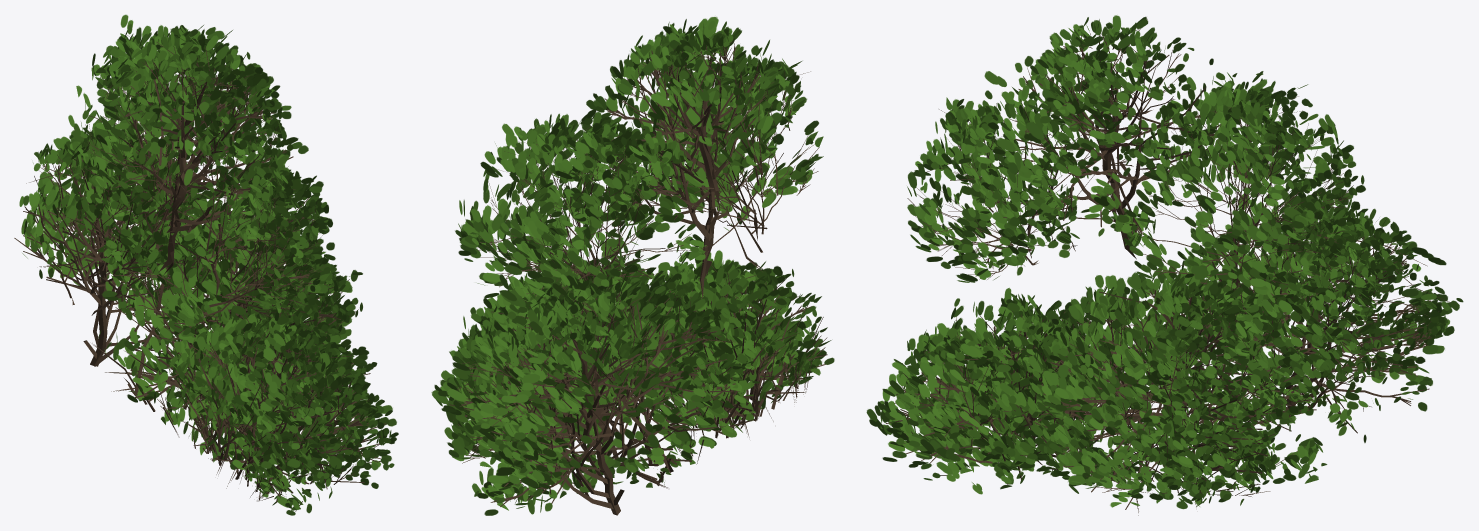
3 views of the same model, side by side, from view 1: azimuth 30°, elevation 25°; view 2: azimuth 150°, elevation 25°; view 3: azimuth 270°, elevation 25° (orthographic). The views are drawn at different scales.
Visible parts, largest first — view 1: oak 01.001_trunk_Mat.001_0.242; view 2: oak 01.001_trunk_Mat.001_0.242; view 3: oak 01.001_trunk_Mat.001_0.242.
Part boxes in pixels (x1,y1,x2,y2): oak 01.001_trunk_Mat.001_0.242: [14, 14, 398, 515]; oak 01.001_trunk_Mat.001_0.242: [431, 17, 834, 515]; oak 01.001_trunk_Mat.001_0.242: [866, 15, 1463, 515].
Size of the model in its own units: 2.15 by 3.65 by 4.62.
Materials: 2 (1 with a texture image).
